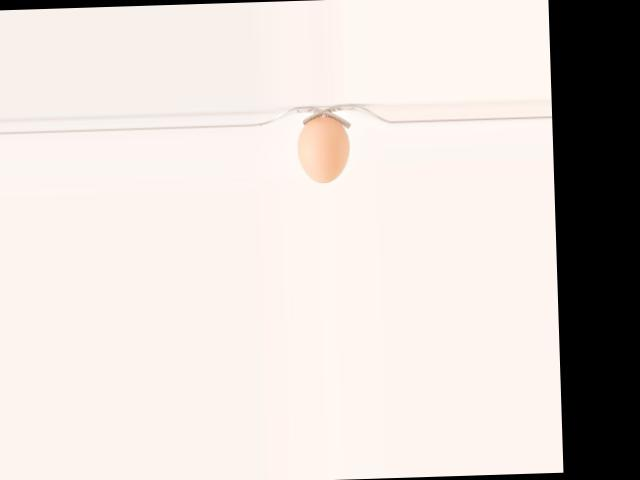egg: (296, 115, 350, 183)
